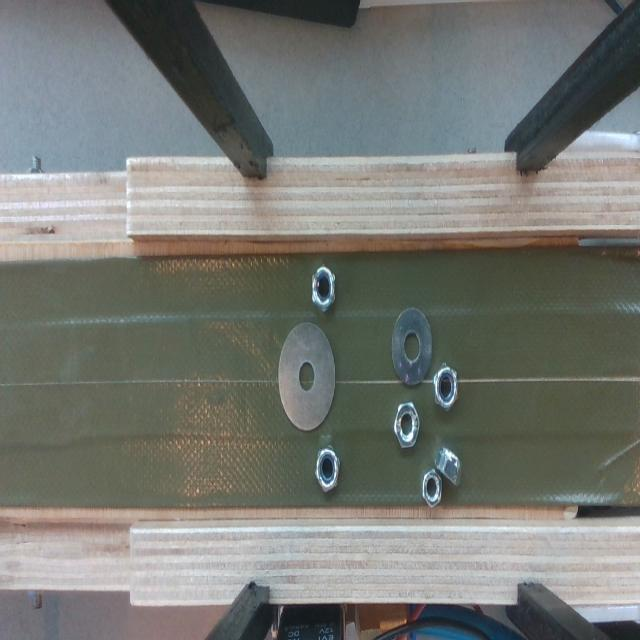Nut: (430, 443, 467, 492), (310, 444, 345, 494), (308, 263, 342, 313), (392, 398, 422, 452), (432, 358, 462, 412), (417, 465, 448, 514)
Washer: (273, 318, 341, 432), (387, 298, 438, 392)
